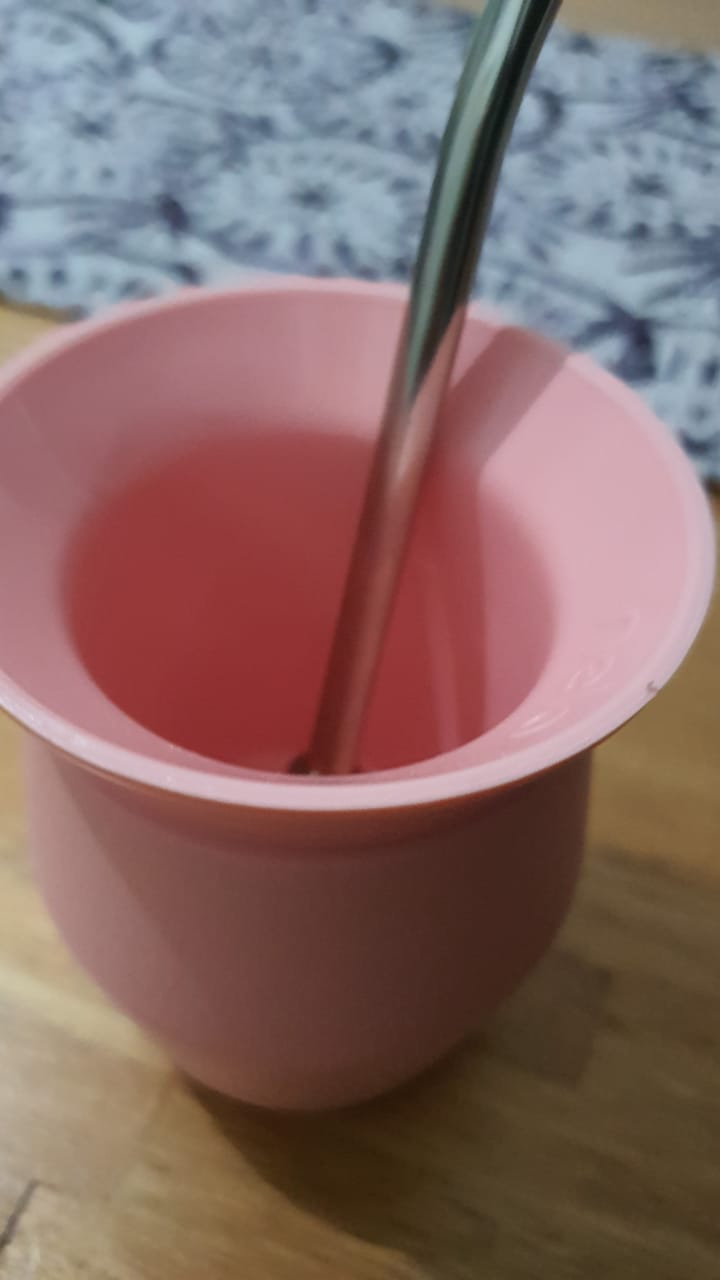mate: (12, 263, 720, 1115)
plastico: (14, 282, 720, 1123)
